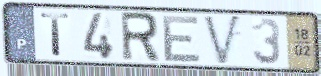3: (249, 16, 282, 67)
4: (81, 11, 116, 62)
E: (161, 14, 204, 63)
R: (118, 11, 162, 65)
T: (39, 11, 73, 58)
V: (201, 13, 243, 68)
